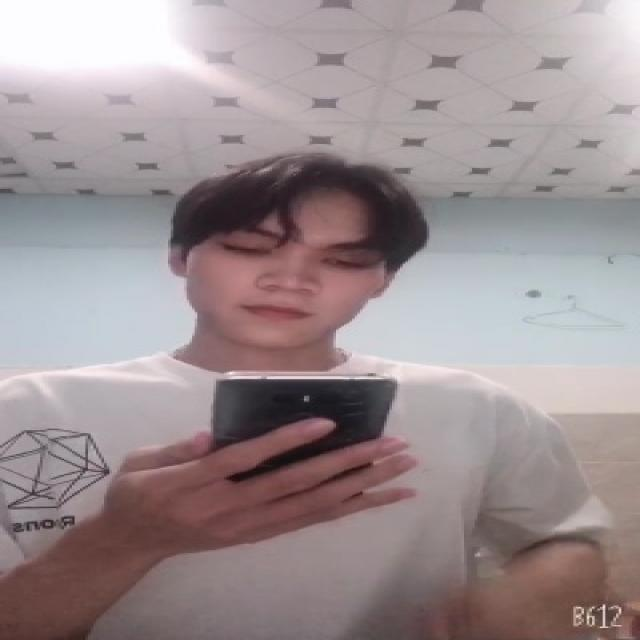Phone: (204, 366, 404, 498)
